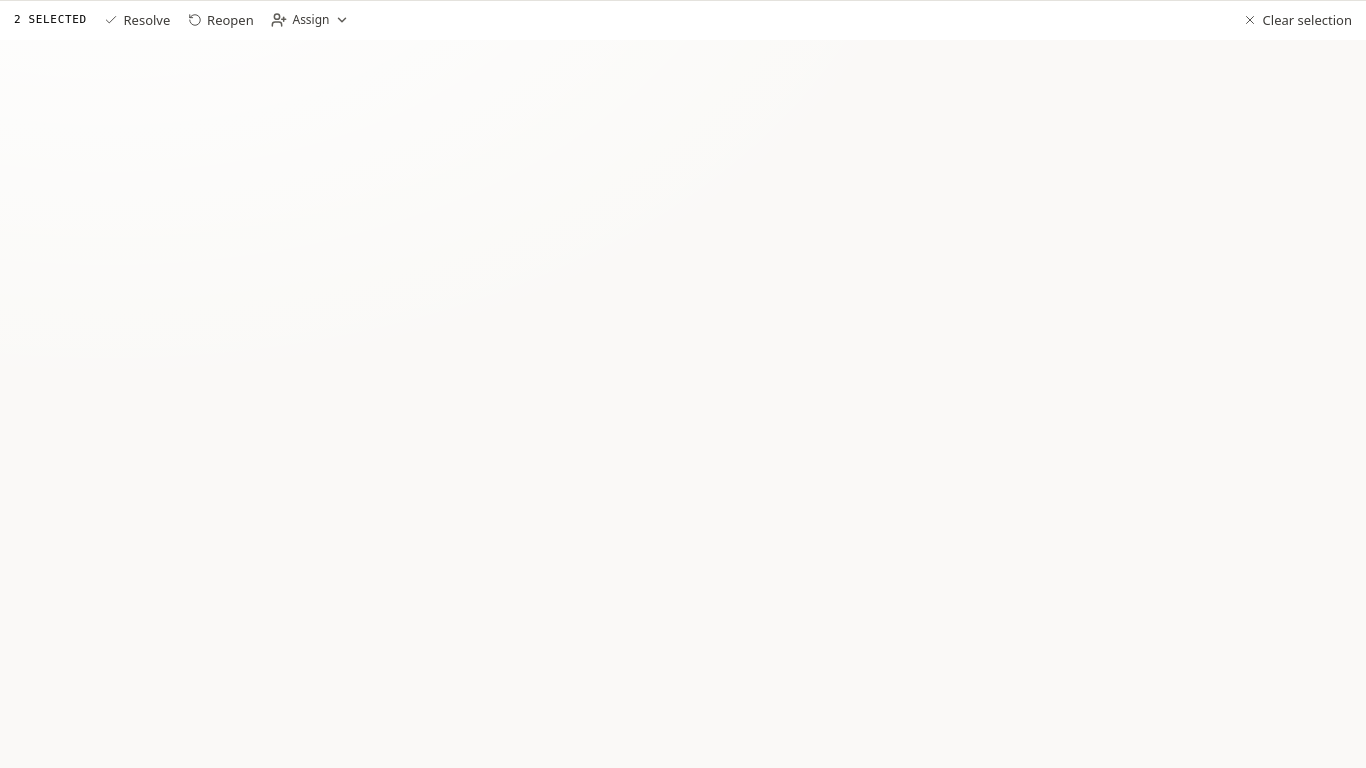
Test: BulkBar › reopens only selected resolved items
Click the button "Reopen": (221, 20) top-left (181, 4), bottom-right (261, 36)
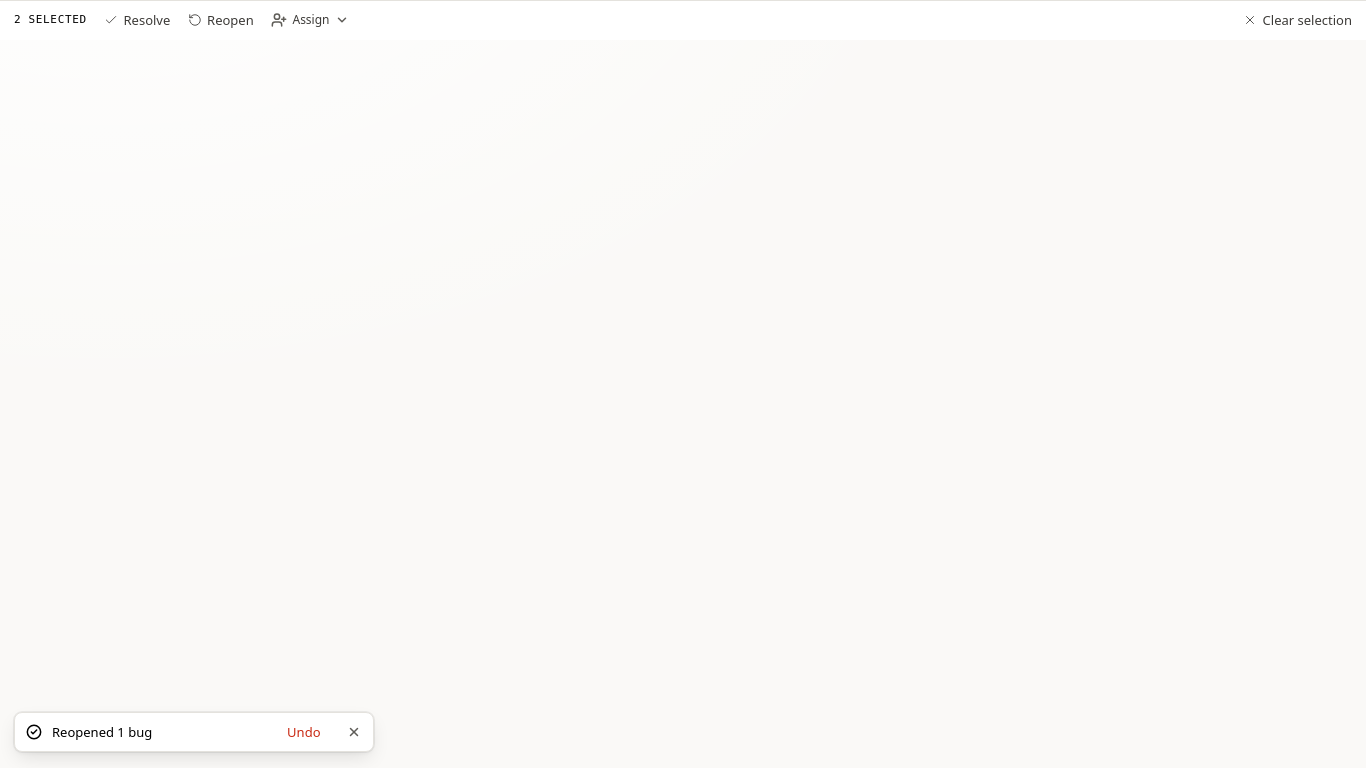
Result: the message shows "Reopened 1 bug" at top-left (52, 723), bottom-right (152, 741)
